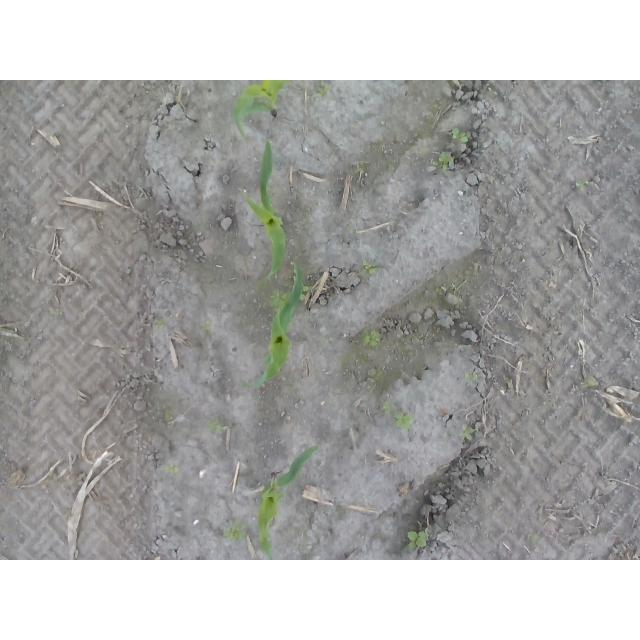Maize: (244, 260, 306, 388), (259, 446, 320, 560), (245, 139, 287, 287), (235, 82, 289, 143)
Weeds: (272, 286, 310, 318), (384, 403, 412, 429), (407, 530, 430, 551), (224, 523, 248, 543), (363, 329, 383, 348), (438, 151, 455, 169), (207, 422, 230, 435), (361, 261, 379, 275), (318, 82, 333, 98), (461, 424, 475, 441), (452, 127, 468, 141), (581, 378, 599, 389), (465, 371, 480, 381), (165, 467, 180, 476), (575, 180, 590, 189), (358, 166, 367, 177), (154, 320, 164, 329), (54, 310, 62, 319)
